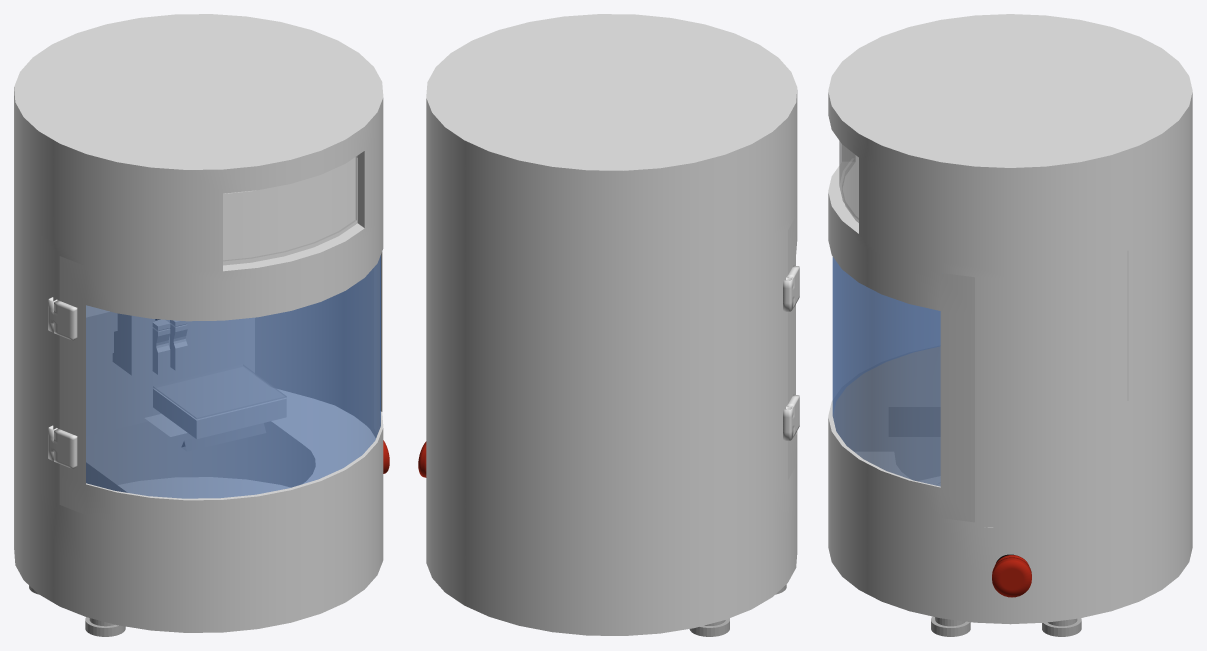
File: bio-printing.gltf
3 renders of one model, left to right at view 1: azimuth 30°, elevation 25°; view 2: azimuth 150°, elevation 25°; view 3: azimuth 270°, elevation 25°, orthographic. The views are drawn at different scales.
Visible parts, largest first — view 1: Cylinder, Cylinder.001, Cylinder.003, Cylinder.002, Cube.002, Cube.011, Cube, Cube.003, Cube.001, Cube.009, Cube.013, Cube.012 (+4 smaller); view 2: Cylinder, Cylinder.001, Cube.012, Cube.013; view 3: Cylinder, Cylinder.001, Circle, Circle.008, Cylinder.003, Circle.006, Circle.007, Cylinder.002.
Boxes of the visible parts, x1,y1,x2,y2 form: Cylinder: (14,14,383,632); Cylinder.001: (59,210,383,531); Cylinder.003: (223,157,357,265); Cylinder.002: (145,389,375,483); Cube.002: (86,318,246,398); Cube.011: (153,364,286,418); Cube: (86,318,254,436); Cube.003: (113,314,202,375); Cube.001: (153,388,286,438); Cube.009: (86,305,113,359); Cube.013: (48,297,77,340); Cube.012: (48,425,77,468); Cylinder: (426,14,797,635); Cylinder.001: (788,203,797,479); Cube.012: (783,394,799,440); Cube.013: (783,265,799,311); Cylinder: (828,14,1192,624); Cylinder.001: (828,203,974,522); Circle: (889,407,940,436); Circle.008: (992,554,1031,597); Cylinder.003: (842,155,858,222); Circle.006: (931,616,970,636); Circle.007: (1042,618,1081,636); Cylinder.002: (855,452,992,527).
Bounding box in the file's own units: 2.69 × 3.6 × 2.49.
